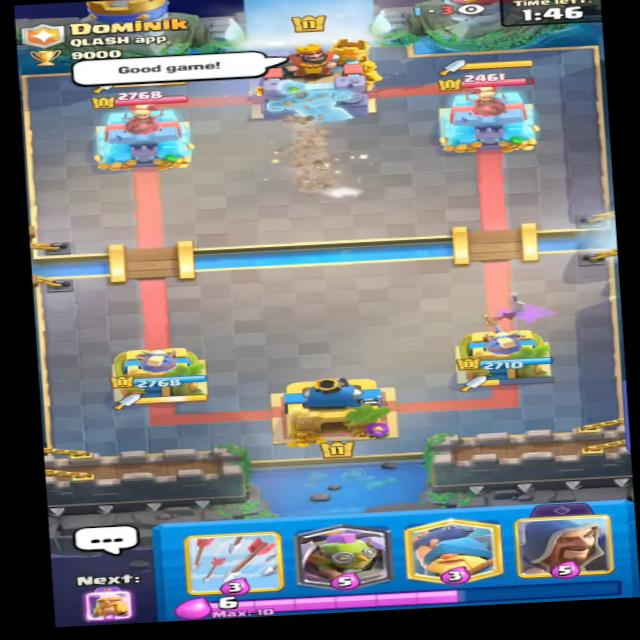trail: (264, 107, 349, 201)
